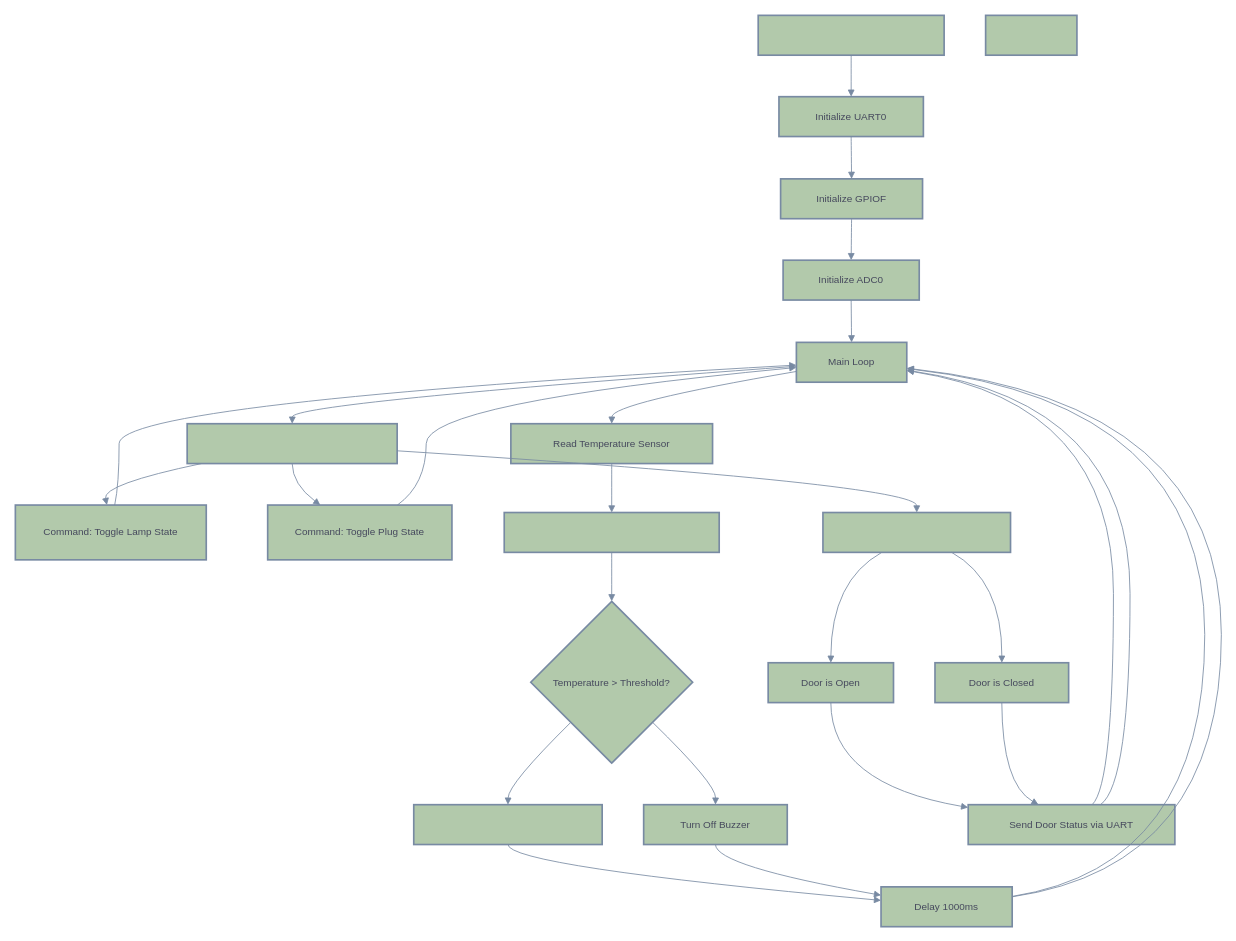
The diagram is 1236 pixels wide and 941 high, and some of its shapes have lost their labels. The centre of each missing label's shape, as x and y in pixels:
"Check UART for Commands" goes at point 292,443.
"Read Door Sensor State" goes at point 916,532.
"Repeat" goes at point 1030,35.
"Send Temperature via UART" goes at point 611,532.
"Start: Initialize System" goes at point 851,35.
"Turn On Buzzer (Alarm)" goes at point 508,824.
